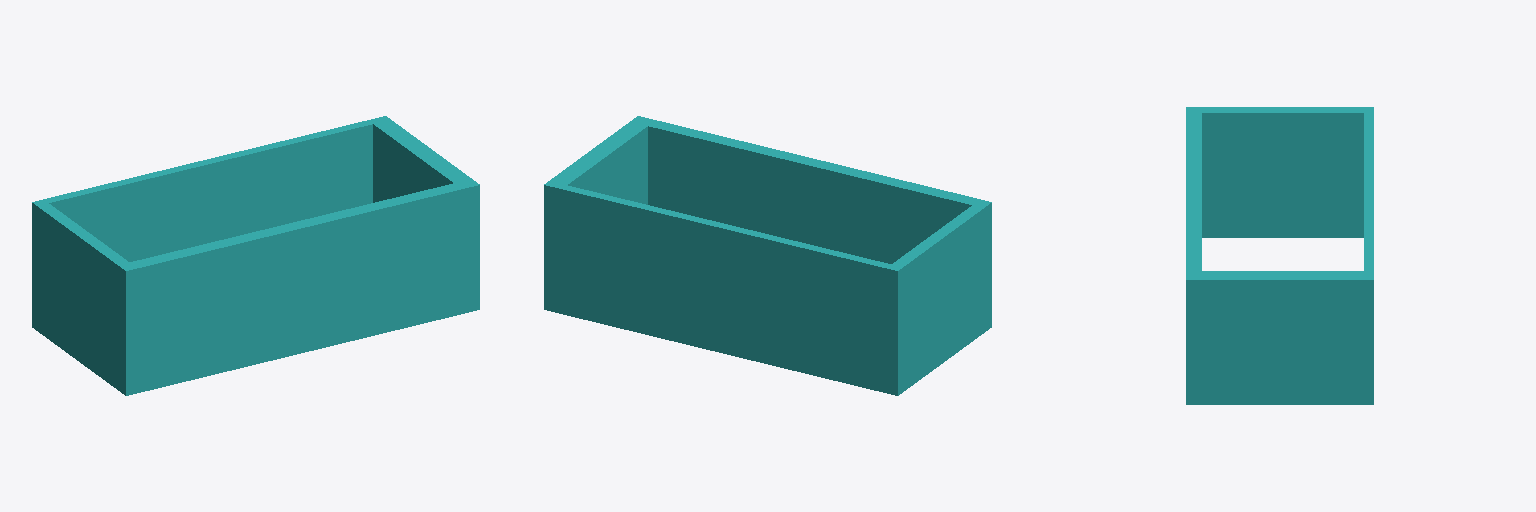
Rendered from chassis.obj.
The picture shows the model from 3 angles: view 1: azimuth 30°, elevation 25°; view 2: azimuth 150°, elevation 25°; view 3: azimuth 270°, elevation 25°; orthographic projection.
Visible parts, largest first — view 1: object_1; view 2: object_1; view 3: object_1.
Part boxes in pixels (bbox=[...]): object_1: bbox=[32, 116, 479, 395]; object_1: bbox=[544, 116, 991, 395]; object_1: bbox=[1186, 107, 1373, 404].
Bounding box in the file's own units: 27.16 × 9.16 × 12.54.